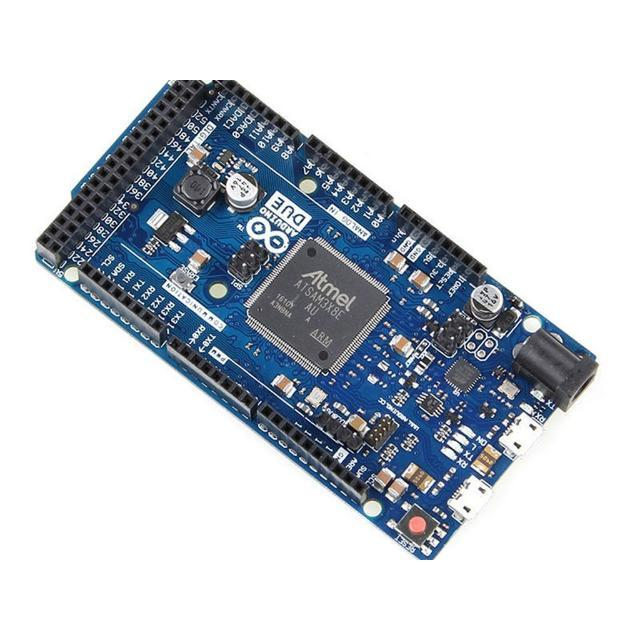Arduino-Due: (38, 81, 597, 560)
